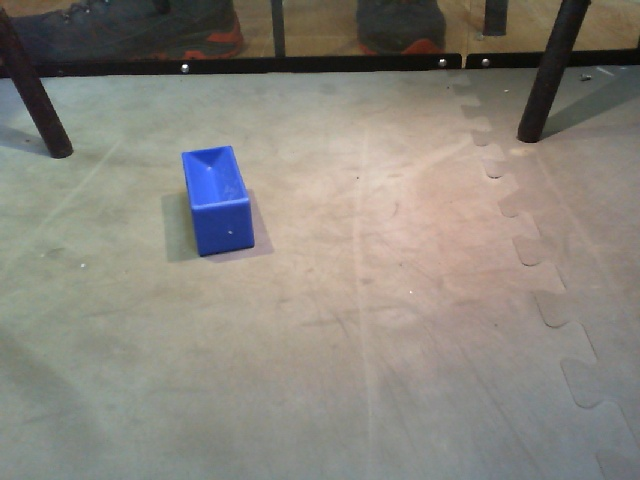BlueSample: (178, 142, 257, 258)
